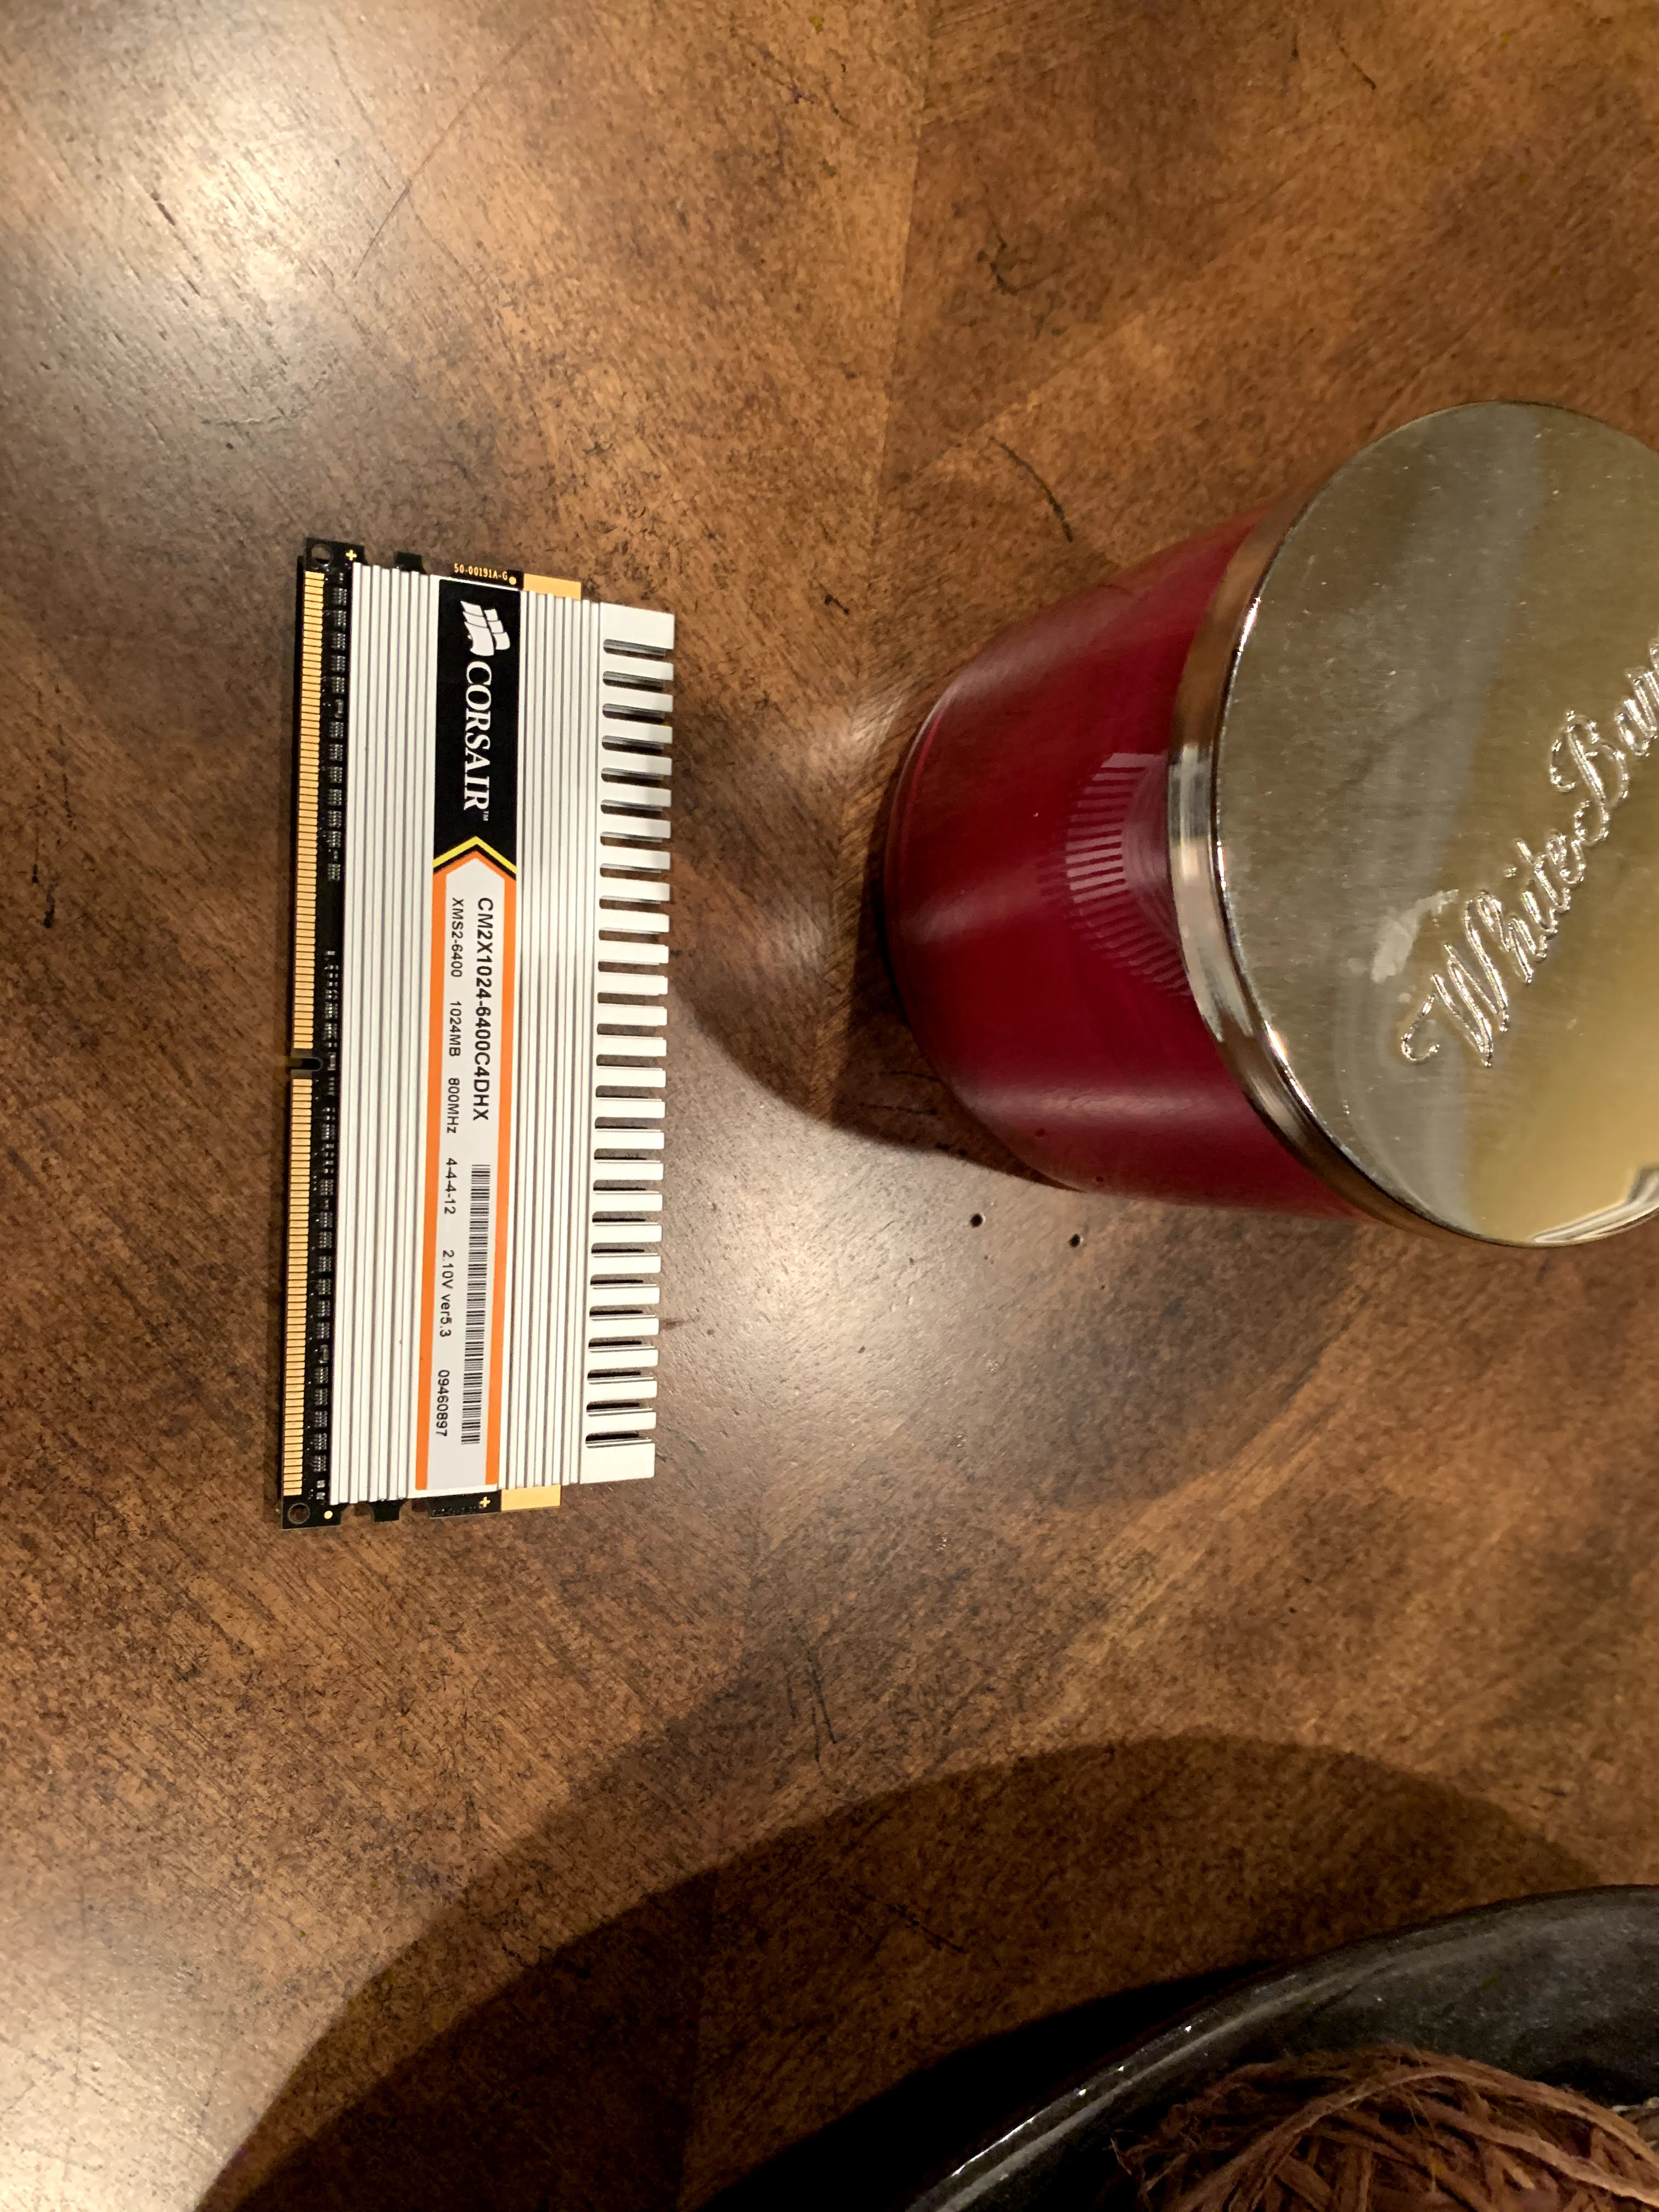Space-debris-medium: (223, 488, 762, 1615)
